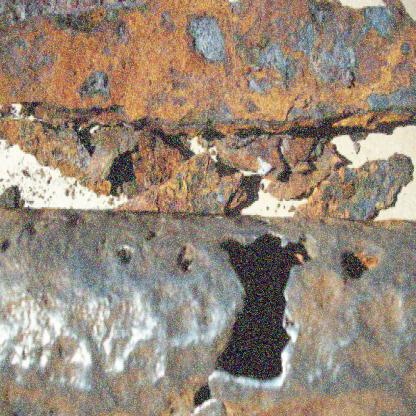burst: (201, 225, 319, 380)
